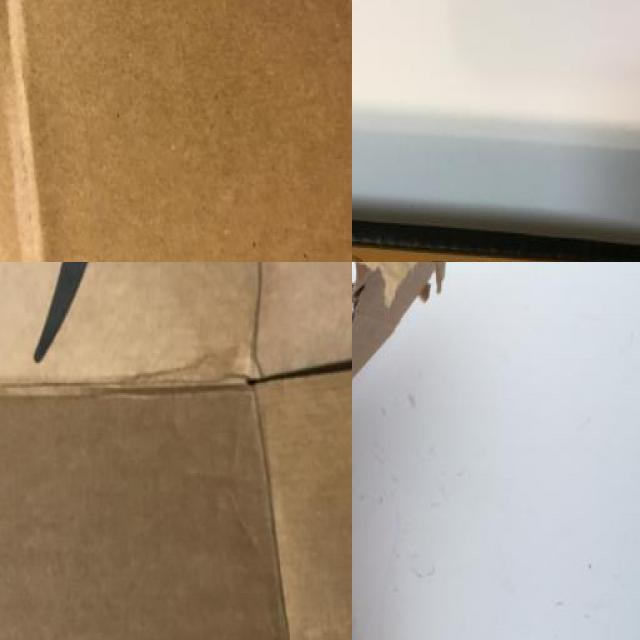class_name: (0, 262, 352, 640), (0, 0, 352, 262), (352, 0, 640, 262), (352, 262, 454, 640)
